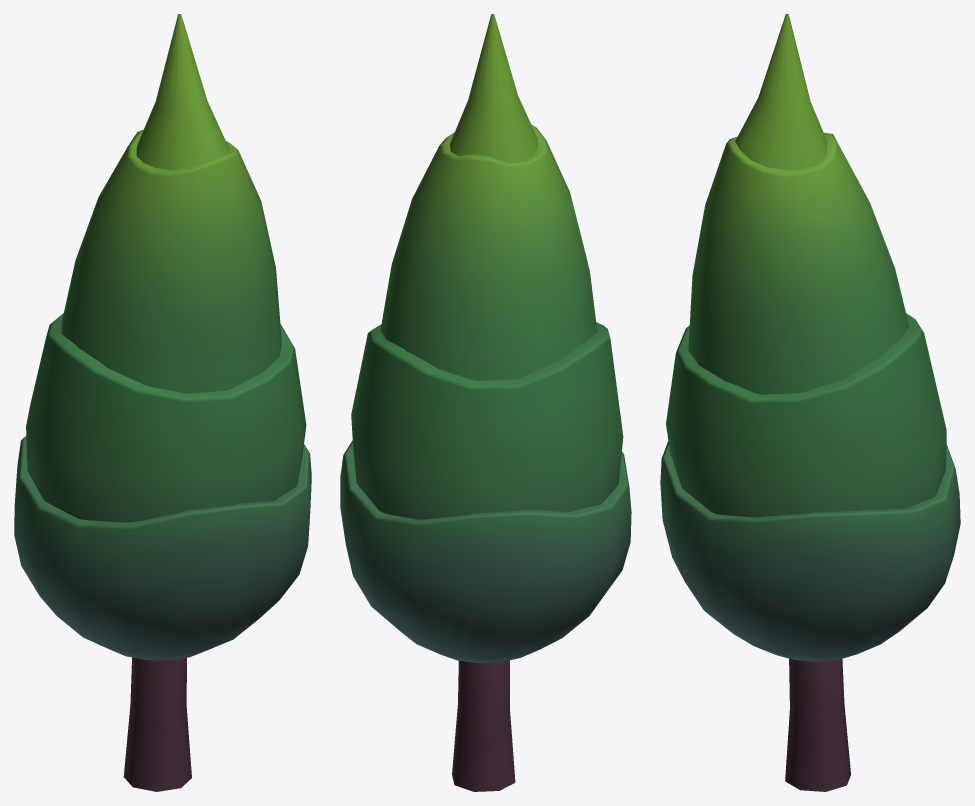
The model's file is tree_forest2b.fbx.
3 renders of one model, left to right at view 1: azimuth 30°, elevation 25°; view 2: azimuth 150°, elevation 25°; view 3: azimuth 270°, elevation 25°, orthographic. The views are drawn at different scales.
Visible parts, largest first — view 1: model_0.002; view 2: model_0.002; view 3: model_0.002.
Boxes of the visible parts, <box> form: model_0.002: <box>14,14,311,791</box>; model_0.002: <box>340,14,631,791</box>; model_0.002: <box>660,14,960,791</box>.
Bounding box in the file's own units: 929 × 2630 × 934.
